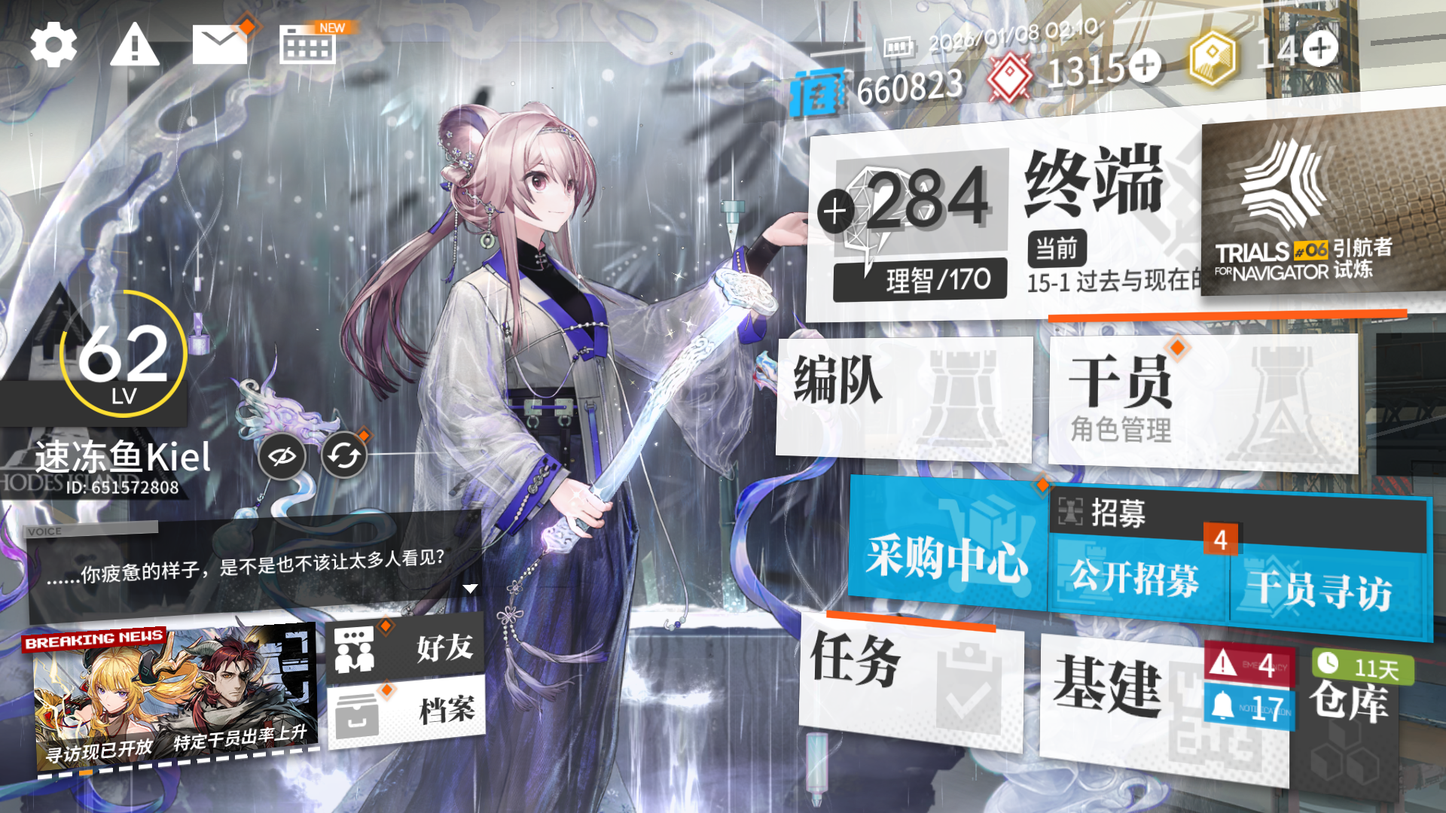home_button: (1000, 125, 1179, 239)
infrastructure_button: (1038, 641, 1266, 763)
